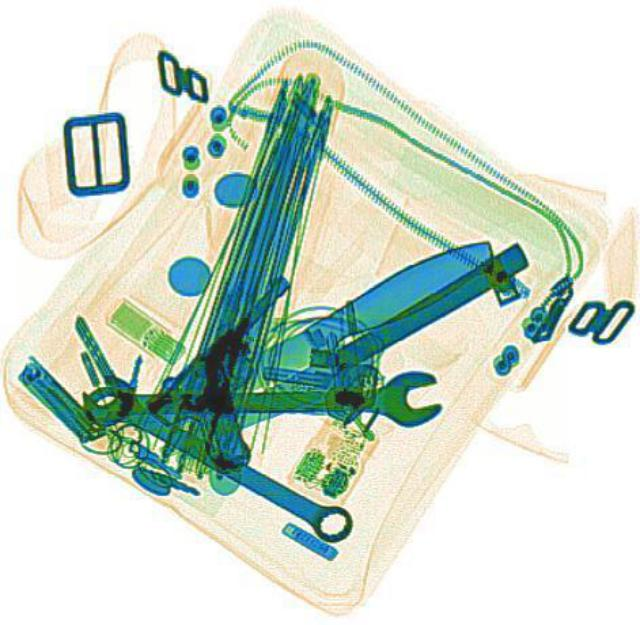Gun: (142, 272, 366, 471)
Knife: (143, 229, 504, 428)
Wrench: (66, 362, 362, 556), (81, 368, 442, 431)
